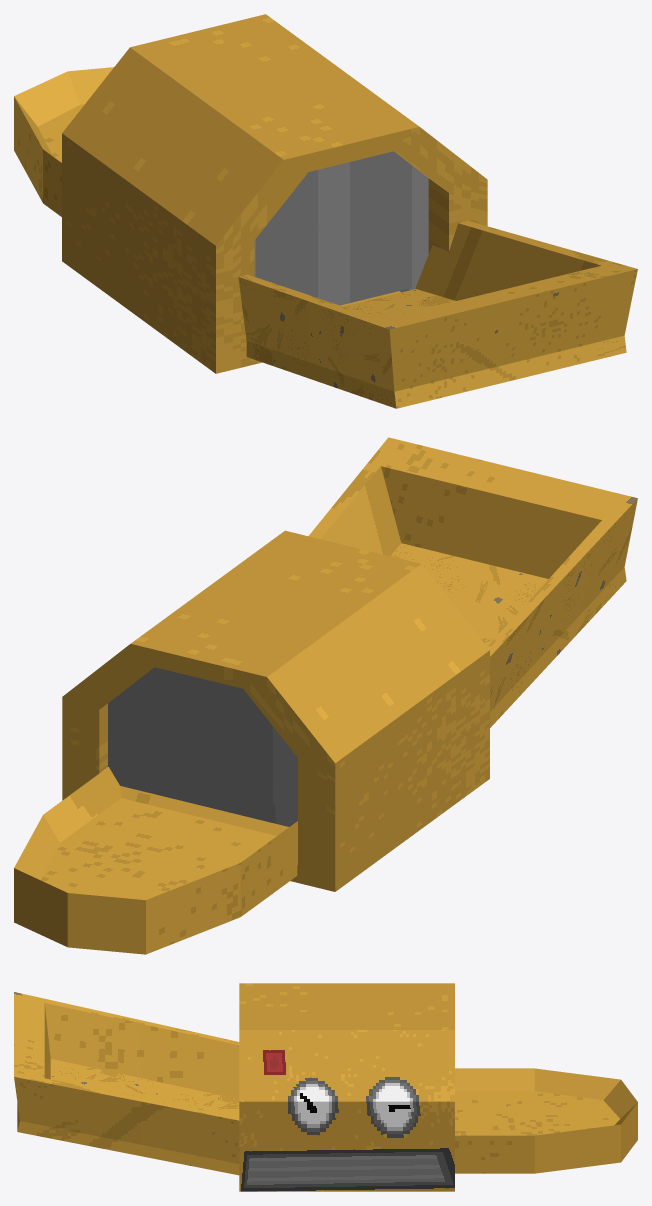
The model's file is refinery.glb.
3 renders of one model, top to bottom at view 1: azimuth 30°, elevation 25°; view 2: azimuth 150°, elevation 25°; view 3: azimuth 270°, elevation 25°, orthographic. The views are drawn at different scales.
Parts seen in each view (by area): view 1: Cube, Cube.001, Cube.002; view 2: Cube, Cube.001, Cube.002; view 3: Cube, Cube.001, Cube.002.
Part boxes in pixels (x1,y1,x2,y2): Cube: [62, 14, 487, 373]; Cube.001: [238, 221, 637, 408]; Cube.002: [14, 67, 113, 216]; Cube: [62, 530, 489, 891]; Cube.001: [308, 437, 637, 727]; Cube.002: [14, 767, 297, 954]; Cube: [239, 983, 454, 1191]; Cube.001: [14, 992, 239, 1175]; Cube.002: [455, 1068, 637, 1173].
Bounding box in the file's own units: 3.26 × 2.26 × 9.24.
Materials: 3 (3 with a texture image).
